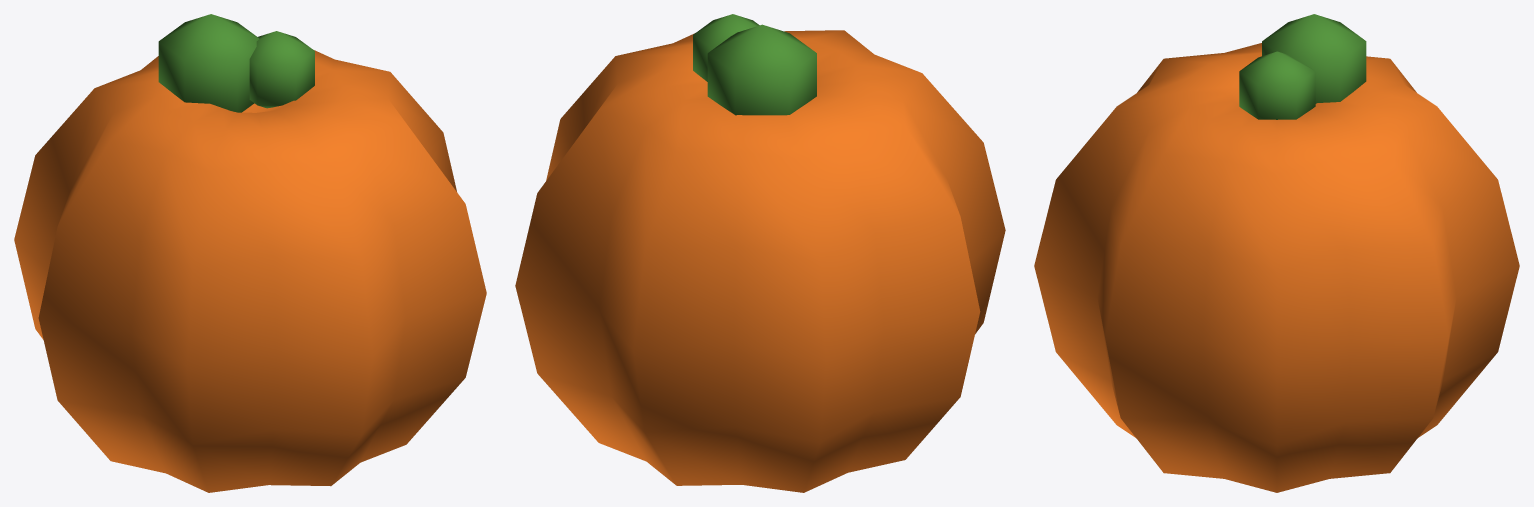
Rendered from Pumpkin.fbx.
3 renders of one model, left to right at view 1: azimuth 30°, elevation 25°; view 2: azimuth 150°, elevation 25°; view 3: azimuth 270°, elevation 25°, orthographic. The views are drawn at different scales.
Visible parts, largest first — view 1: Pumpkin; view 2: Pumpkin; view 3: Pumpkin.
Boxes of the visible parts, left/top/right/bottom form: Pumpkin: left=14, top=14, right=486, bottom=492; Pumpkin: left=515, top=14, right=1005, bottom=492; Pumpkin: left=1034, top=14, right=1519, bottom=492.
Bounding box in the file's own units: 370 × 348 × 370.
